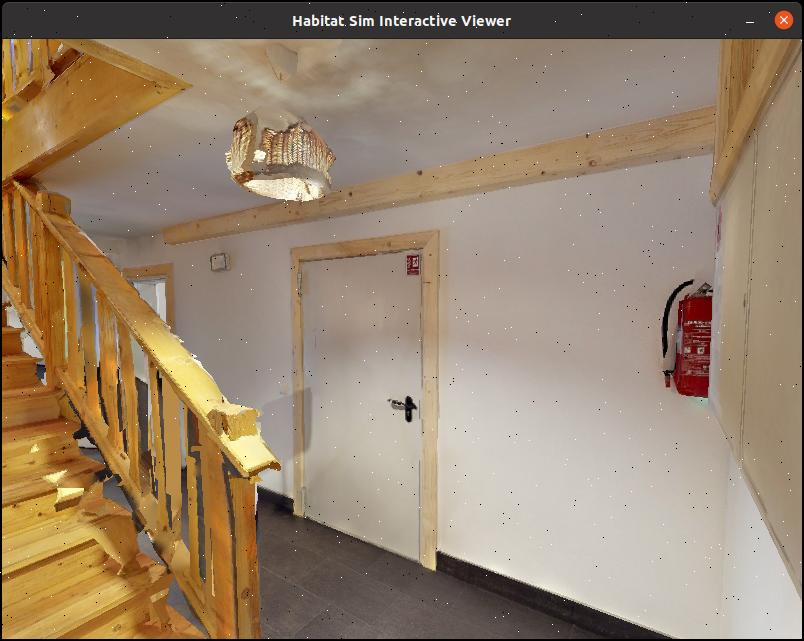door: (289, 251, 428, 568)
